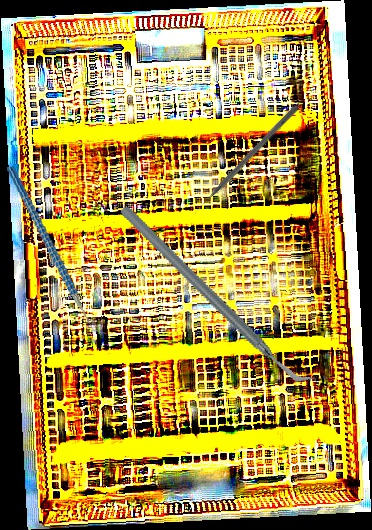Chopper: (117, 164, 318, 428), (6, 156, 109, 345)
Pusher: (190, 102, 301, 216)
